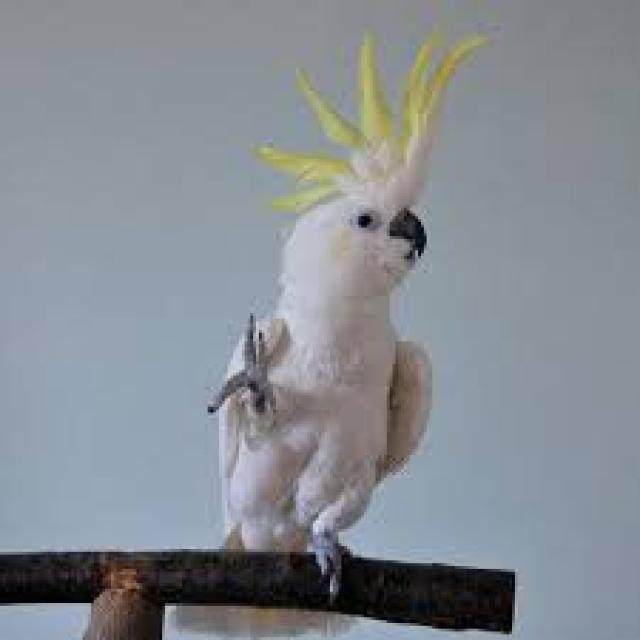Parrot: (212, 34, 456, 578)
